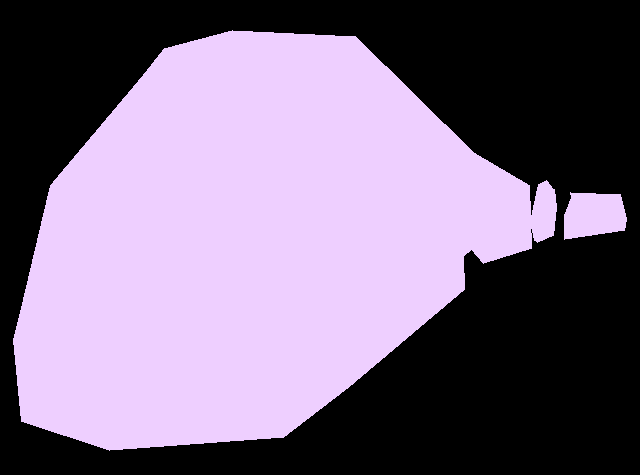Train: (13, 30, 531, 450), (530, 180, 627, 243)
